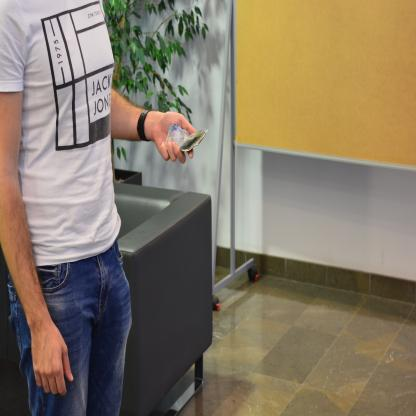billete: (162, 122, 210, 152)
